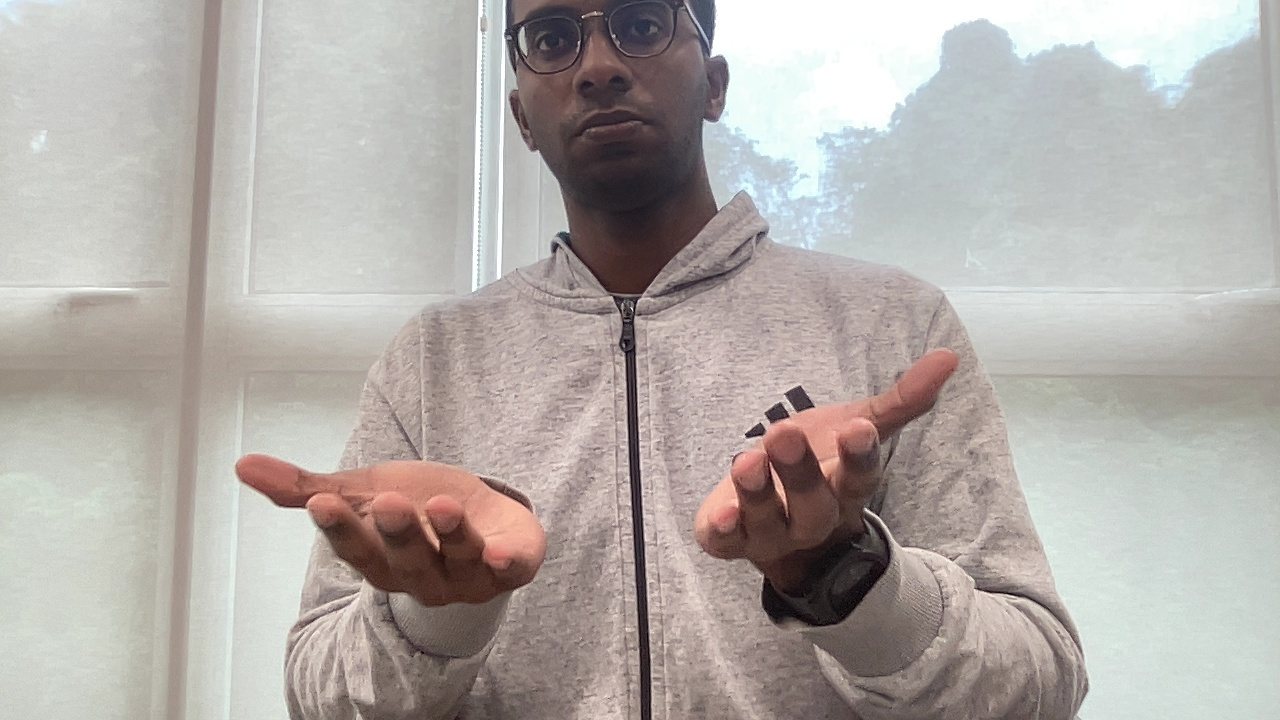give: (230, 340, 964, 612)
